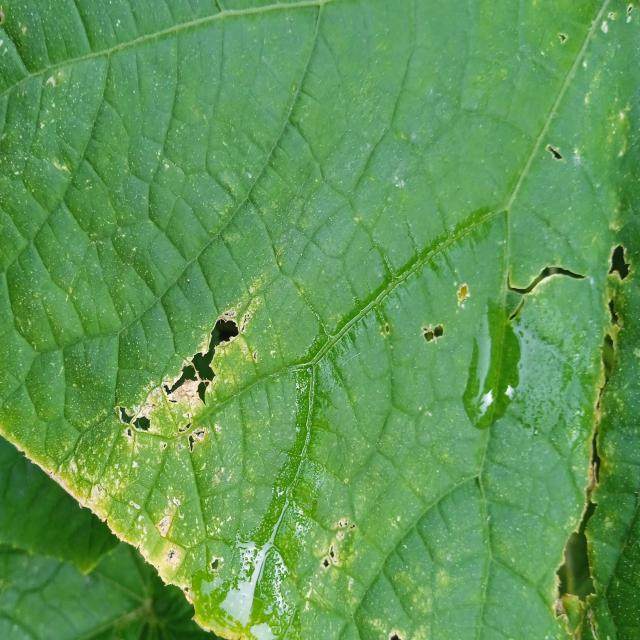cucumber_anthracnose: (66, 96, 640, 635)
